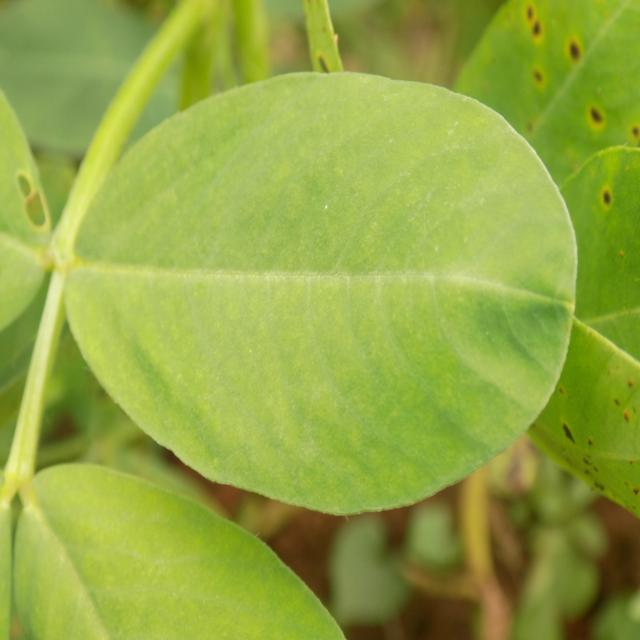Ground nut_healthy: (60, 70, 573, 510)
